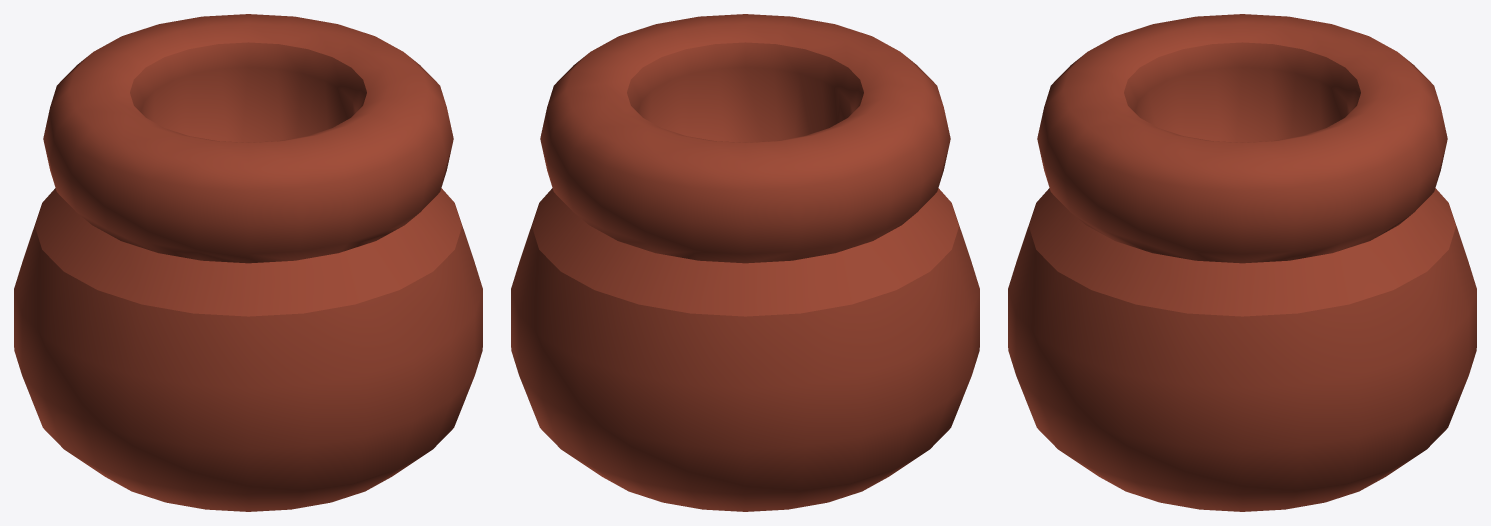
Rendered from pote_natal_barro_pequeno_pacote.glb.
3 views of the same model, side by side, from view 1: azimuth 30°, elevation 25°; view 2: azimuth 150°, elevation 25°; view 3: azimuth 270°, elevation 25° (orthographic).
Parts seen in each view (by area): view 1: pote_natal_barro_pequeno_pacote; view 2: pote_natal_barro_pequeno_pacote; view 3: pote_natal_barro_pequeno_pacote.
Boxes of the visible parts, x1,y1,x2,y2 form: pote_natal_barro_pequeno_pacote: (14,14,482,511); pote_natal_barro_pequeno_pacote: (511,14,979,511); pote_natal_barro_pequeno_pacote: (1008,14,1476,511).
Size of the model in its own units: 0.1145 by 0.0987 by 0.1145.
Materials: 1 (1 with a texture image).
